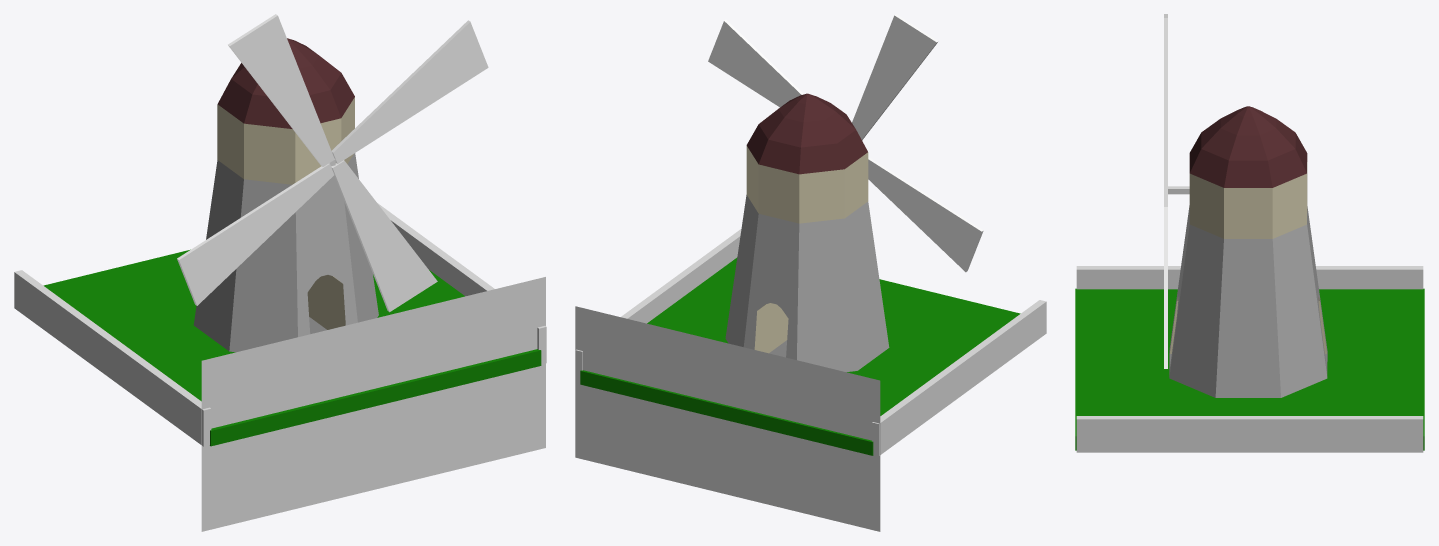
The model's file is mill.gltf.
3 views of the same model, side by side, from view 1: azimuth 30°, elevation 25°; view 2: azimuth 150°, elevation 25°; view 3: azimuth 270°, elevation 25° (orthographic). The views are drawn at different scales.
Visible parts, largest first — view 1: obj_snap, Cylinder, Cube.005, Cube, Cube.001, Cube.002; view 2: obj_snap.001, Cylinder, Cube, Cube.005, Cube.001, Cube.002; view 3: Cylinder, Cube, Cube.002, Cube.001, Cube.005.
Part boxes in pixels (bbox=[...]): obj_snap: bbox=[201, 277, 545, 531]; Cylinder: bbox=[193, 38, 378, 352]; Cube.005: bbox=[177, 14, 488, 312]; Cube: bbox=[43, 249, 541, 446]; Cube.001: bbox=[14, 270, 211, 446]; Cube.002: bbox=[377, 203, 546, 364]; obj_snap.001: bbox=[575, 306, 880, 531]; Cylinder: bbox=[725, 93, 889, 372]; Cube: bbox=[580, 257, 1020, 455]; Cube.005: bbox=[708, 14, 983, 272]; Cube.001: bbox=[872, 300, 1046, 455]; Cube.002: bbox=[575, 229, 741, 383]; Cylinder: bbox=[1169, 106, 1327, 397]; Cube: bbox=[1075, 288, 1424, 450]; Cube.002: bbox=[1076, 416, 1423, 452]; Cube.001: bbox=[1076, 266, 1423, 289]; Cube.005: bbox=[1164, 14, 1167, 368].
Size of the model in its own units: 4.21 by 5.29 by 4.04.
